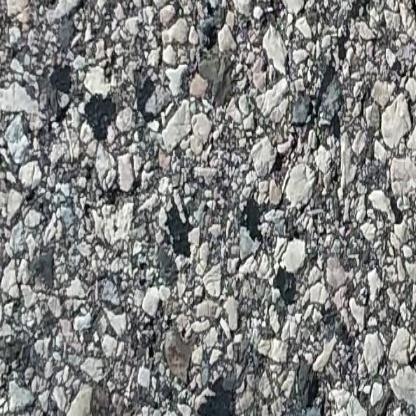Cracks: (306, 0, 393, 134), (405, 0, 416, 39)
